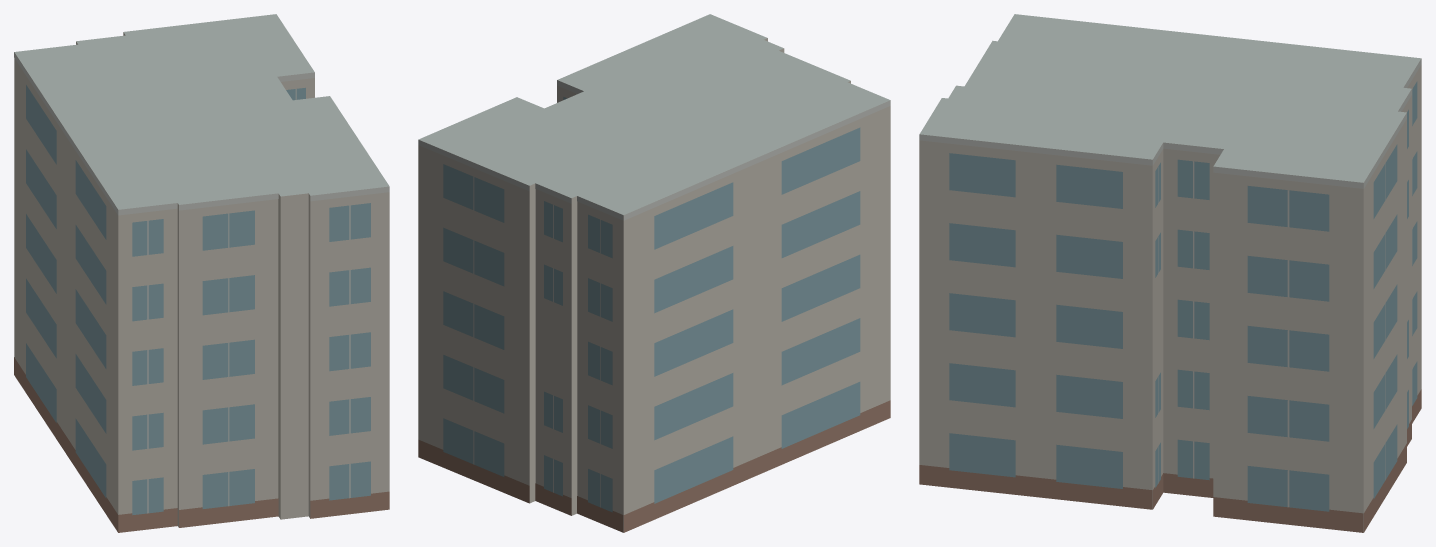
Rendered from survey-upis-33002297.glb.
3 renders of one model, left to right at view 1: azimuth 30°, elevation 25°; view 2: azimuth 150°, elevation 25°; view 3: azimuth 270°, elevation 25°, orthographic. The views are drawn at different scales.
Parts seen in each view (by area): view 1: survey-upis-33002297.tmp; view 2: survey-upis-33002297.tmp; view 3: survey-upis-33002297.tmp.
Part boxes in pixels (box(x1,y1,x2,y2)): survey-upis-33002297.tmp: box(14, 14, 389, 532); survey-upis-33002297.tmp: box(418, 14, 890, 532); survey-upis-33002297.tmp: box(919, 14, 1421, 532).
Bounding box in the file's own units: 14.39 × 13.9 × 18.08.
